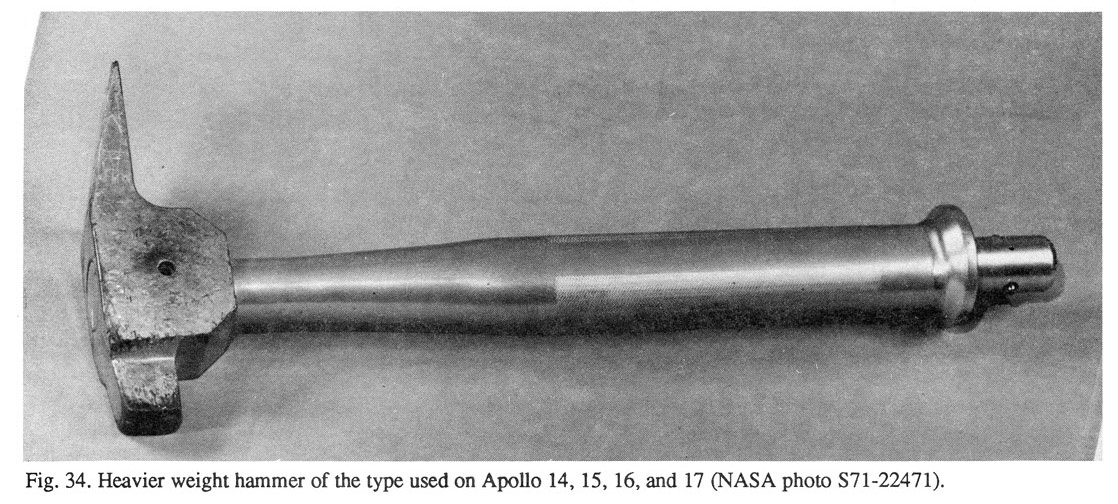hammer: (78, 59, 1060, 439)
